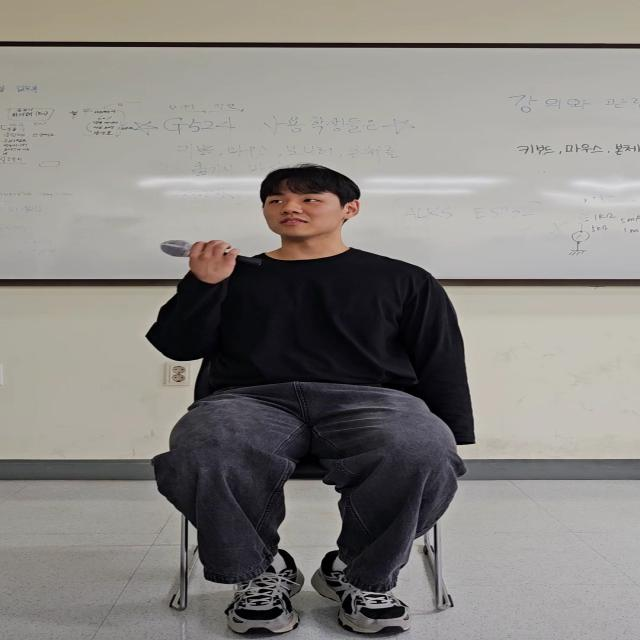curl: (145, 237, 245, 376)
